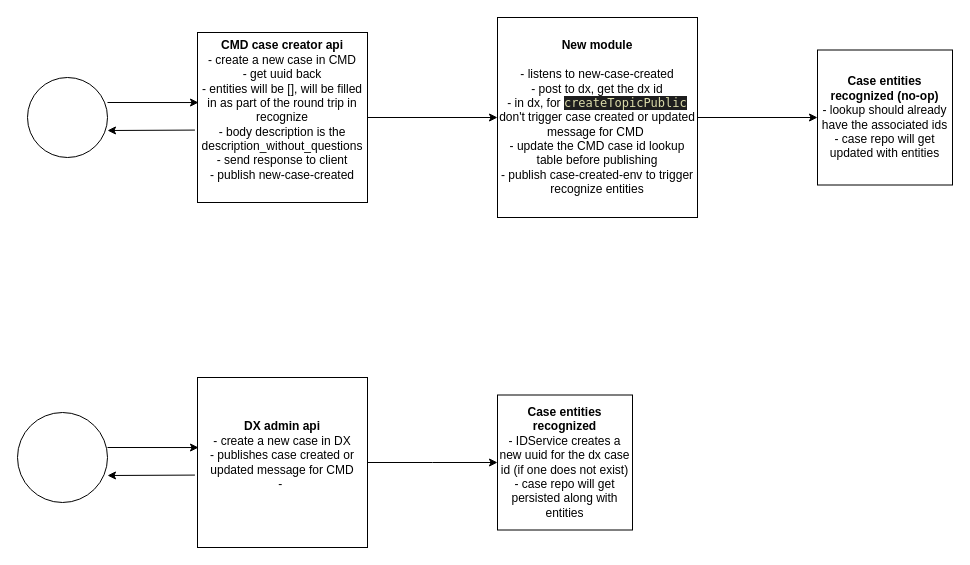
This 970x565 diagram has some shape labels left out. Here are the shapes that lost their labels. From the top down, the centre of each, then its label:
the point at 67,117: User submits a case
the point at 62,457: Admin creates a case in DX
